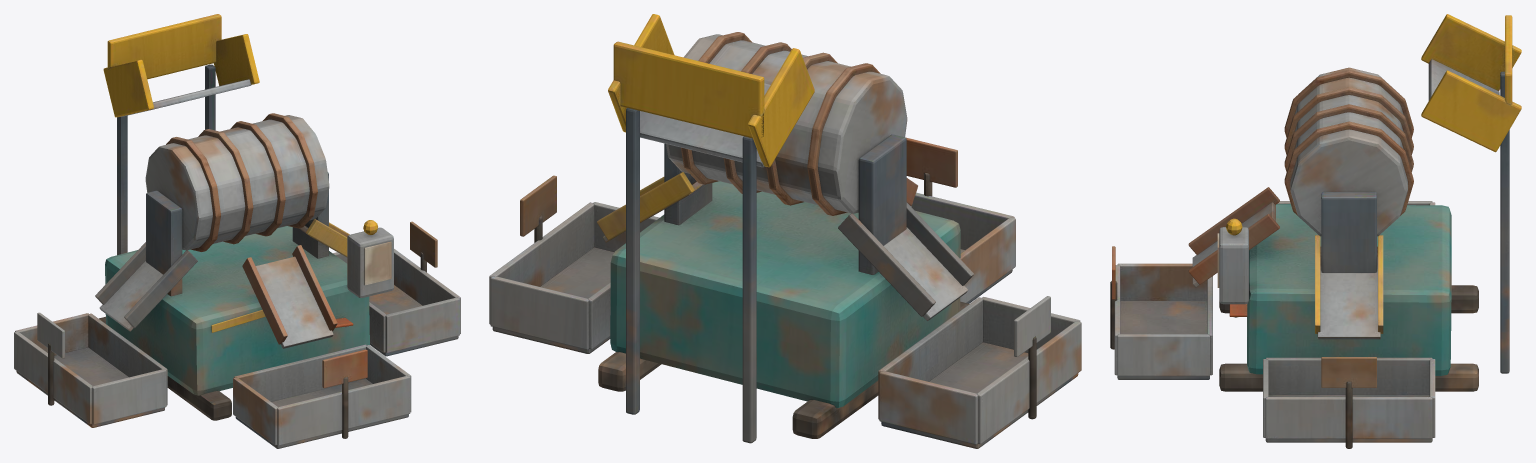
Rendered from sorter.glb.
3 renders of one model, left to right at view 1: azimuth 30°, elevation 25°; view 2: azimuth 150°, elevation 25°; view 3: azimuth 270°, elevation 25°, orthographic. The views are drawn at different scales.
Parts seen in each view (by area): view 1: Sorter_Mesh, Drum_Mesh, ChuteCopper_Mesh, ChuteSteel_Mesh, ChuteWood_Mesh; view 2: Sorter_Mesh, Drum_Mesh, ChuteSteel_Mesh, ChuteWood_Mesh; view 3: Sorter_Mesh, Drum_Mesh, ChuteWood_Mesh, ChuteCopper_Mesh.
Boxes of the visible parts, <box> form: Sorter_Mesh: <box>14,14,460,448</box>; Drum_Mesh: <box>145,113,329,251</box>; ChuteCopper_Mesh: <box>242,245,337,348</box>; ChuteSteel_Mesh: <box>95,242,197,331</box>; ChuteWood_Mesh: <box>299,219,349,257</box>; Sorter_Mesh: <box>489,14,1081,448</box>; Drum_Mesh: <box>666,32,907,215</box>; ChuteSteel_Mesh: <box>838,202,973,320</box>; ChuteWood_Mesh: <box>597,172,703,242</box>; Sorter_Mesh: <box>1110,14,1521,448</box>; Drum_Mesh: <box>1284,67,1413,236</box>; ChuteWood_Mesh: <box>1315,235,1383,339</box>; ChuteCopper_Mesh: <box>1188,187,1279,287</box>.
Bounding box in the file's own units: 2.57 × 1.82 × 2.22.
5 materials, 5 textured.
